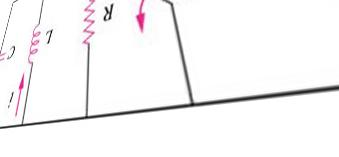resistor: (76, 1, 97, 50)
